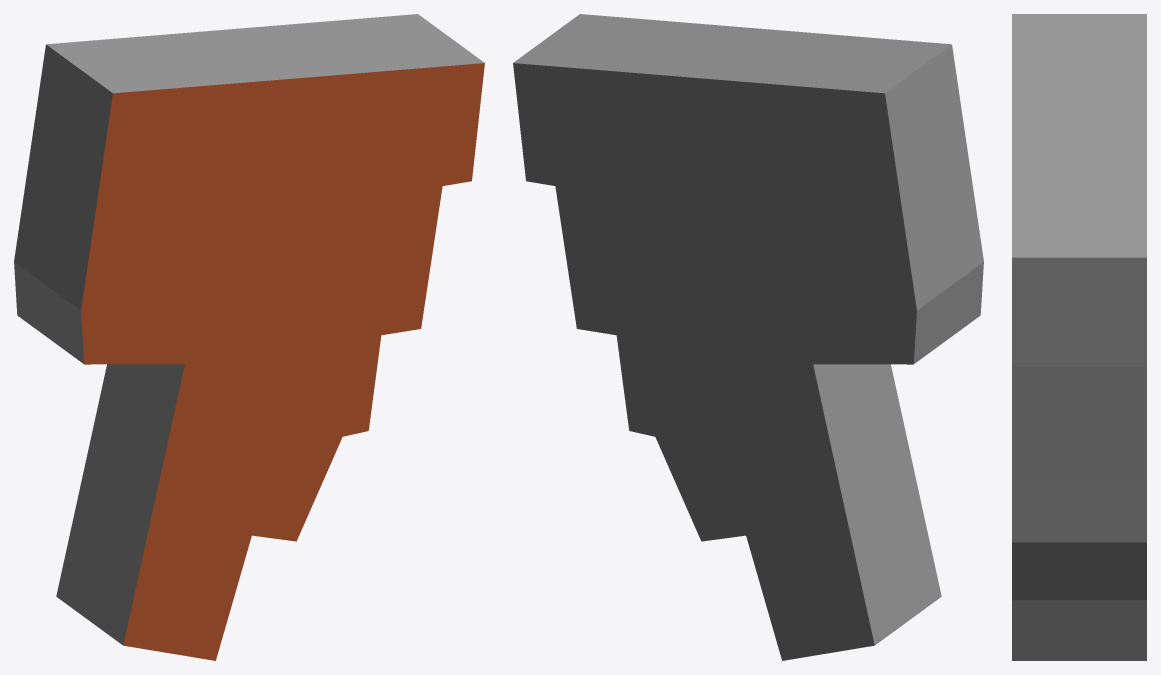
File: construction_1056_assumed_A_Casa_h6m.obj
3 views of the same model, side by side, from view 1: azimuth 30°, elevation 25°; view 2: azimuth 150°, elevation 25°; view 3: azimuth 270°, elevation 25° (orthographic).
Visible parts, largest first — view 1: construction_1056_assumed_A_Casa; view 2: construction_1056_assumed_A_Casa; view 3: construction_1056_assumed_A_Casa.
Part boxes in pixels (bbox=[...]): construction_1056_assumed_A_Casa: bbox=[14, 14, 484, 660]; construction_1056_assumed_A_Casa: bbox=[513, 14, 983, 660]; construction_1056_assumed_A_Casa: bbox=[1012, 14, 1146, 660].
Bounding box in the file's own units: 20.88 × 29.28 × 6.
